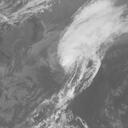cyclone: (58, 35, 102, 71)
